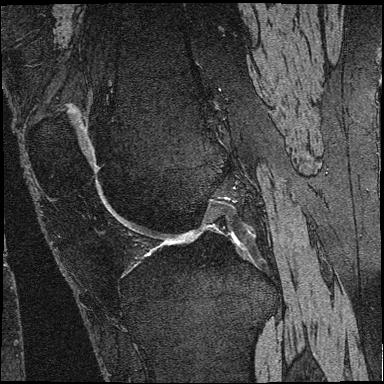SagKneeJointArea: (23, 107, 282, 329)
